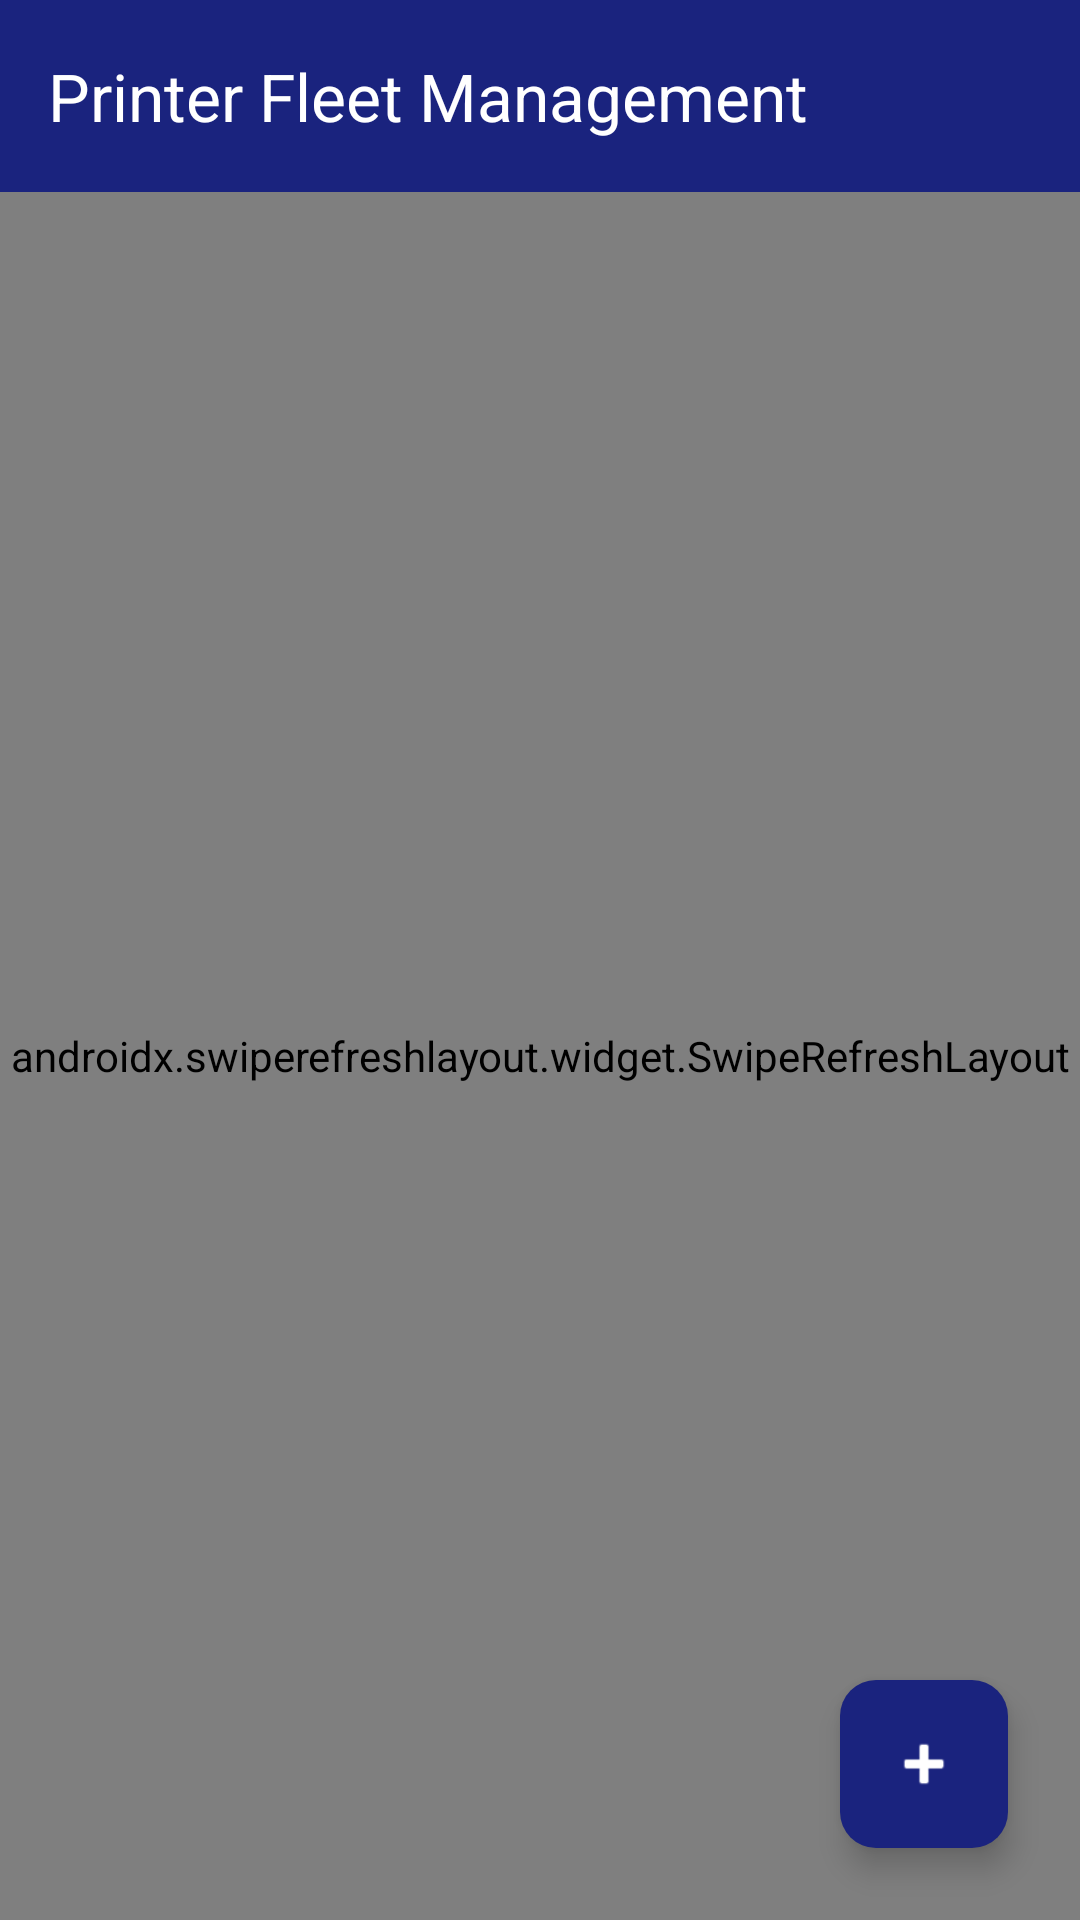

Point at icon controls on the screen. Image size 1080x1920, points as (x,y).
Add printer: (924,1764)
